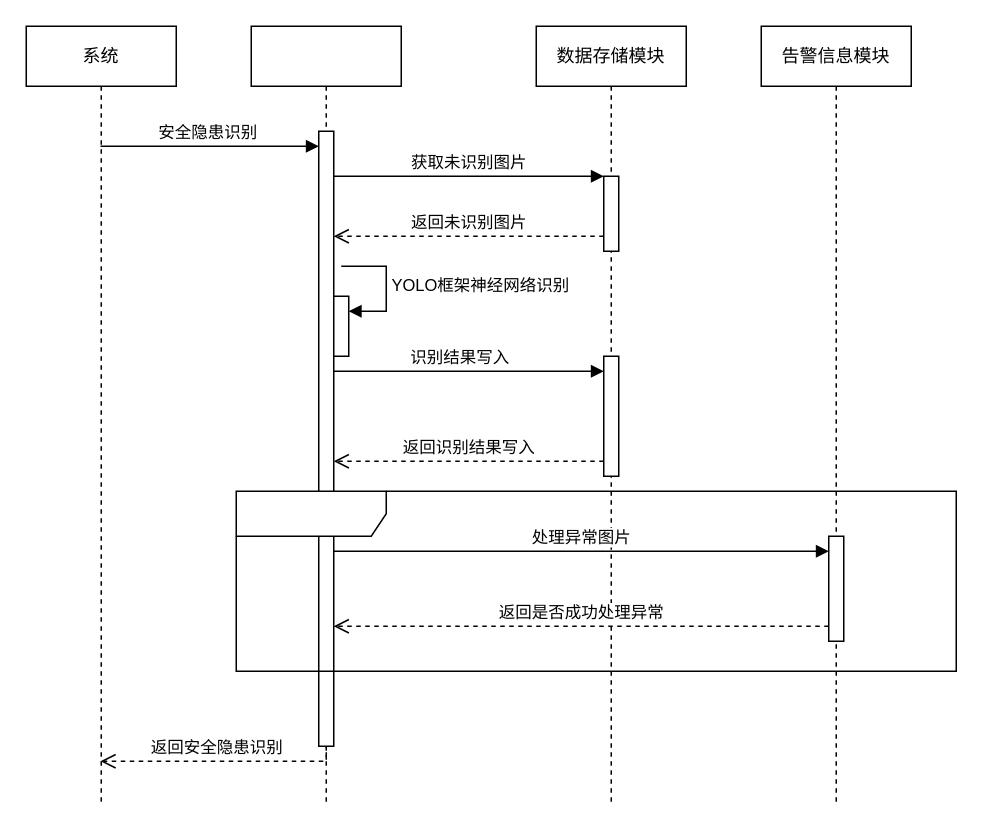
The diagram is 983 pixels wide and 833 high, and some of its shapes have lost their labels. Each missing label, with the box of its shape:
if 存在安全隐患: (235, 490, 956, 671)
用电安全隐患分析模块: (250, 25, 401, 806)
